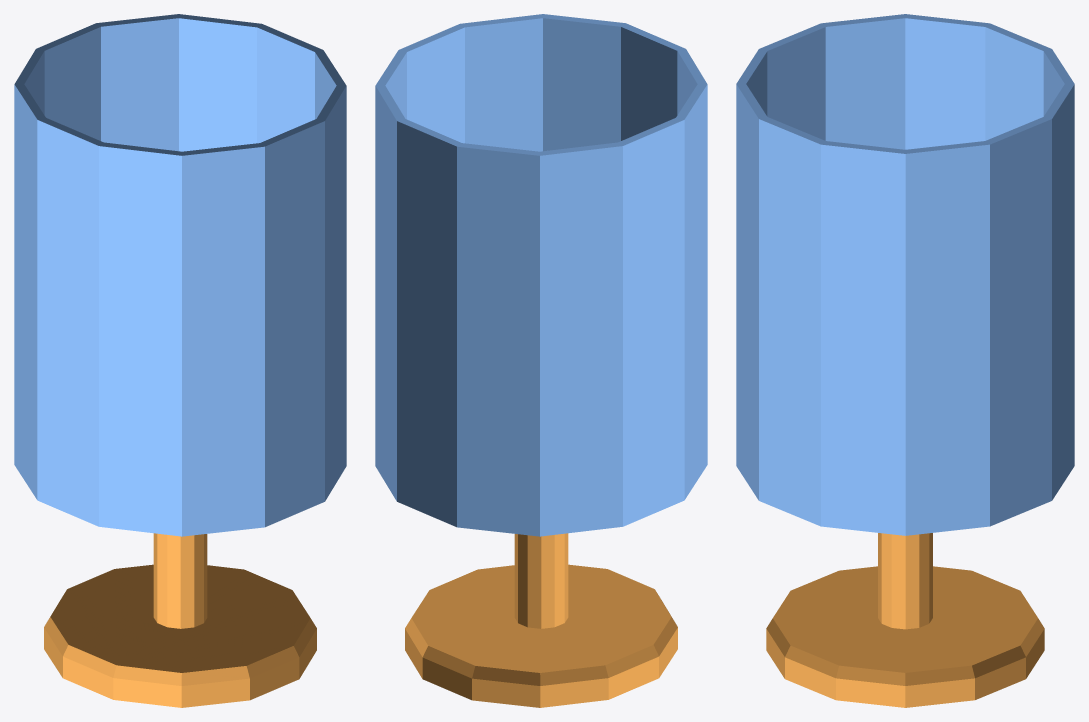
Rendered from Table Lamp 1.fbx.
The picture shows the model from 3 angles, left to right: view 1: azimuth 30°, elevation 25°; view 2: azimuth 150°, elevation 25°; view 3: azimuth 270°, elevation 25°; orthographic projection.
Visible parts, largest first — view 1: Node 0; view 2: Node 0; view 3: Node 0.
Part boxes in pixels (box(x1,y1,x2,y2)): Node 0: box(14, 14, 346, 707); Node 0: box(375, 14, 707, 707); Node 0: box(736, 14, 1074, 707).
Size of the model in its own units: 0.2137 by 0.3945 by 0.2091.
